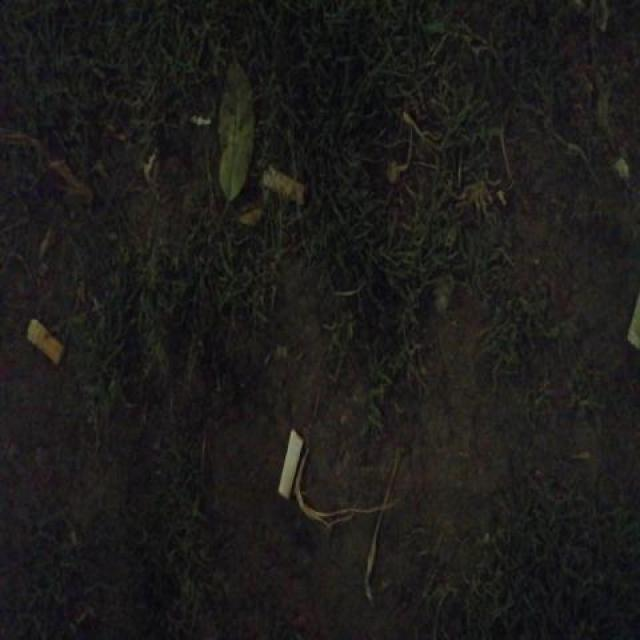non-organic waste: (256, 162, 311, 218), (273, 424, 308, 504), (22, 314, 66, 374)
